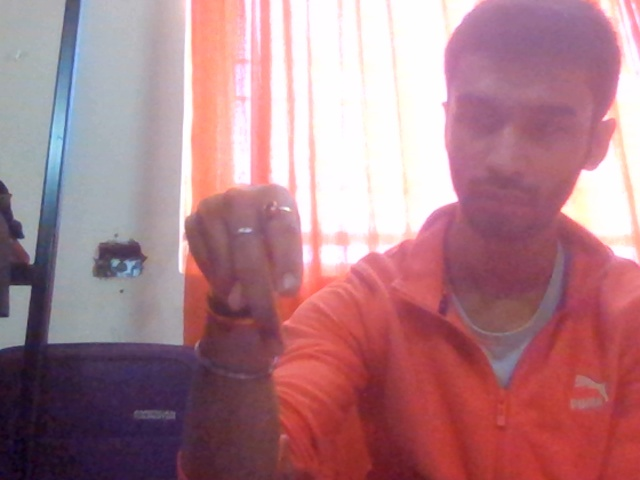P: (149, 146, 350, 389)
